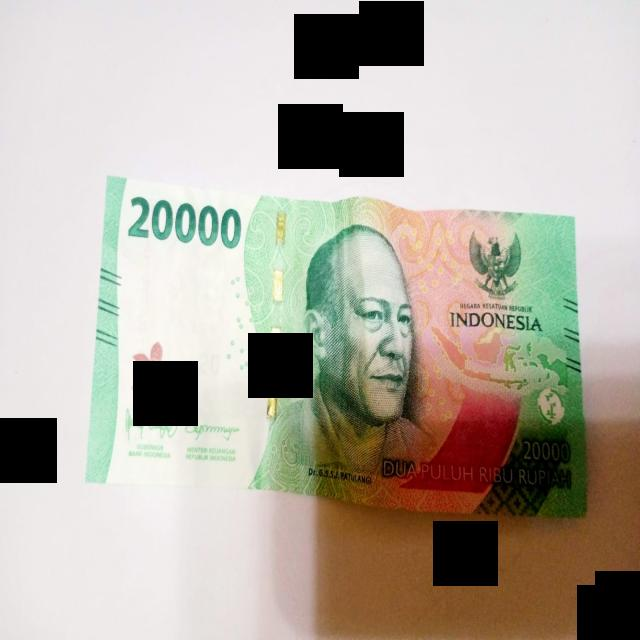dua puluh ribu rupiah: (86, 178, 586, 517)
